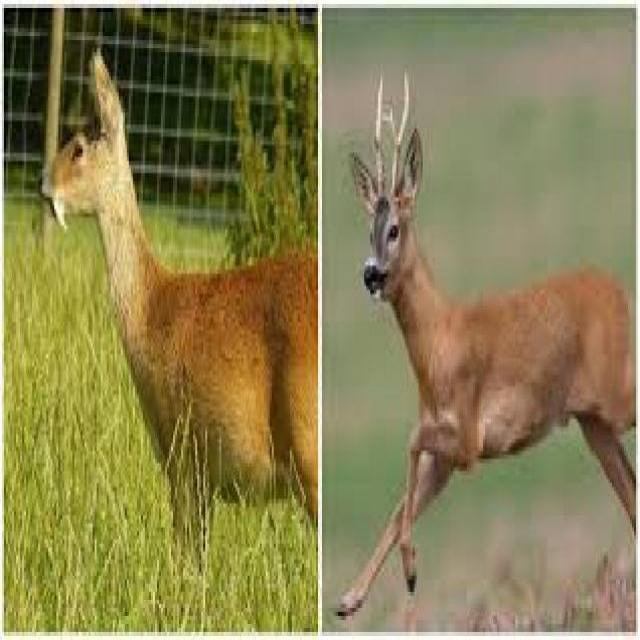deer: (328, 78, 634, 621), (28, 50, 318, 585)
